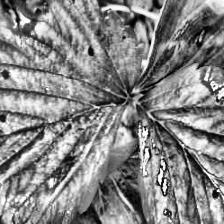Leaf Spot: (0, 0, 147, 224), (132, 62, 224, 224), (0, 136, 153, 224), (133, 0, 224, 96)
